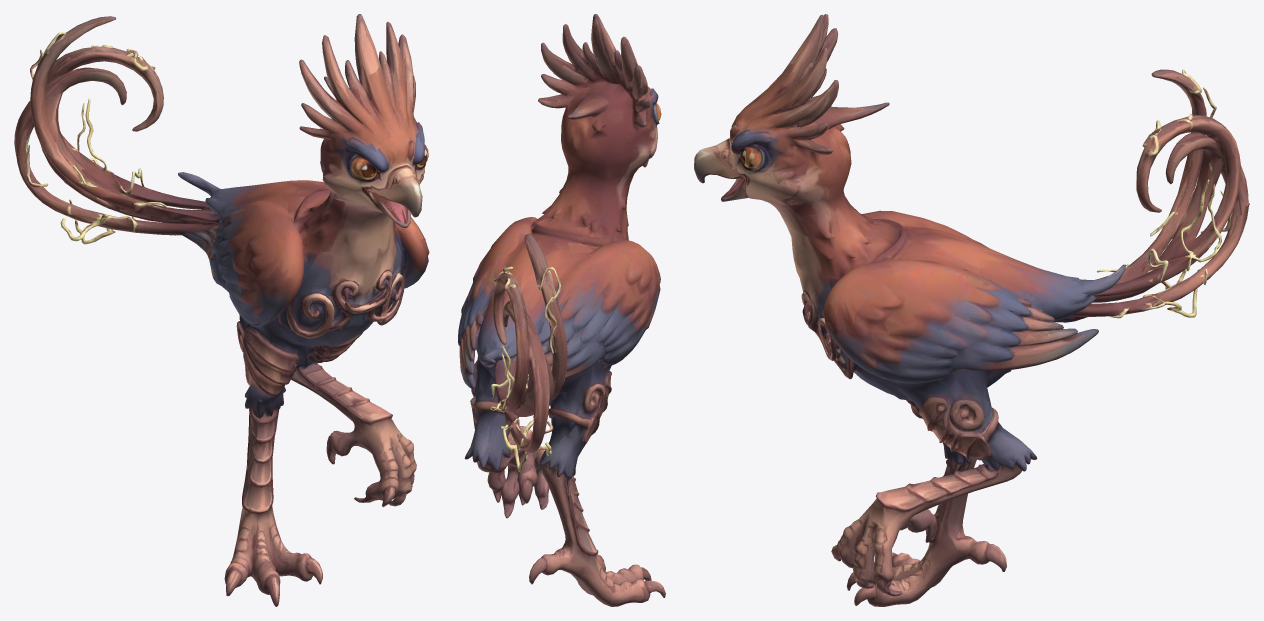
3 views of the same model, side by side, from view 1: azimuth 30°, elevation 25°; view 2: azimuth 150°, elevation 25°; view 3: azimuth 270°, elevation 25° (orthographic). The views are drawn at different scales.
Parts seen in each view (by area): view 1: Mesh_0; view 2: Mesh_0; view 3: Mesh_0.
Part boxes in pixels (x1=…): Mesh_0: x1=14, y1=14, x2=429, y2=606; Mesh_0: x1=458, y1=14, x2=665, y2=606; Mesh_0: x1=694, y1=14, x2=1249, y2=606.
Bounding box in the file's own units: 0.7938 × 1.9 × 1.57.
Materials: 1 (1 with a texture image).
